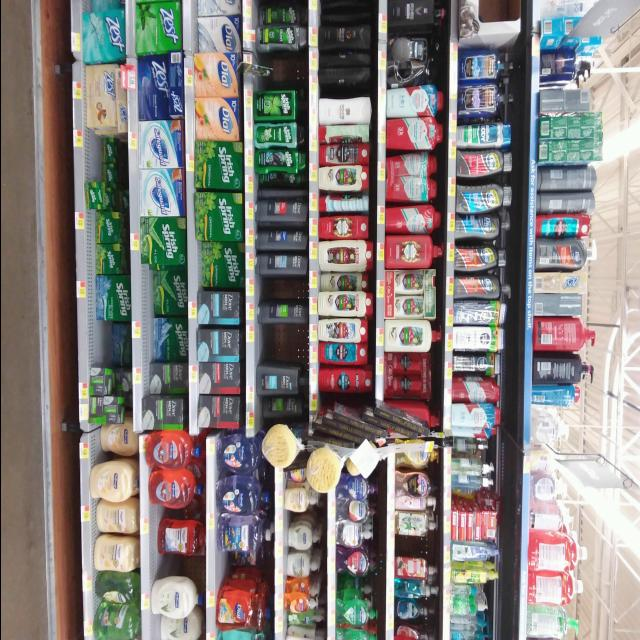empty_space: (257, 324, 299, 359), (258, 273, 298, 303), (273, 50, 295, 94), (85, 140, 104, 182), (90, 322, 108, 362), (394, 537, 426, 553)
